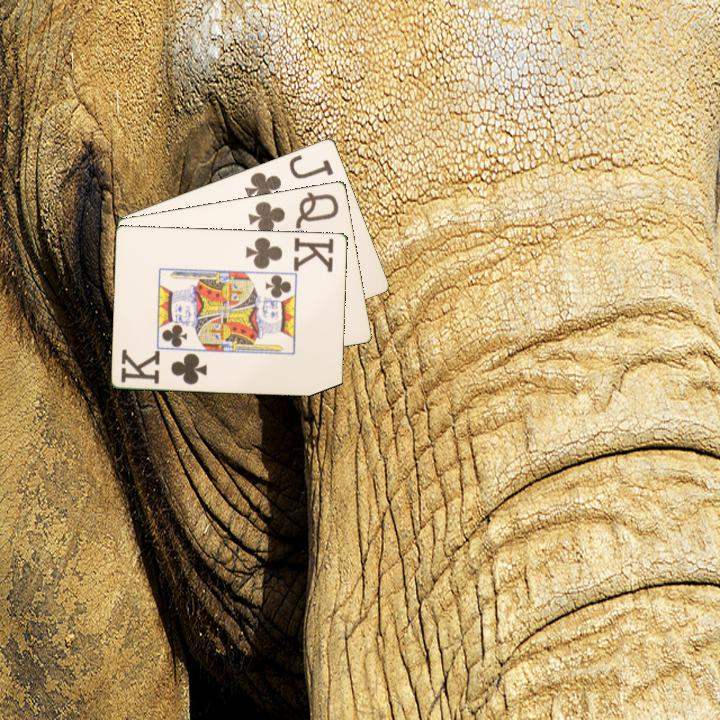Jc: (241, 151, 336, 206)
Kc: (242, 233, 337, 274), (118, 347, 210, 387)
Qc: (245, 188, 342, 236)
